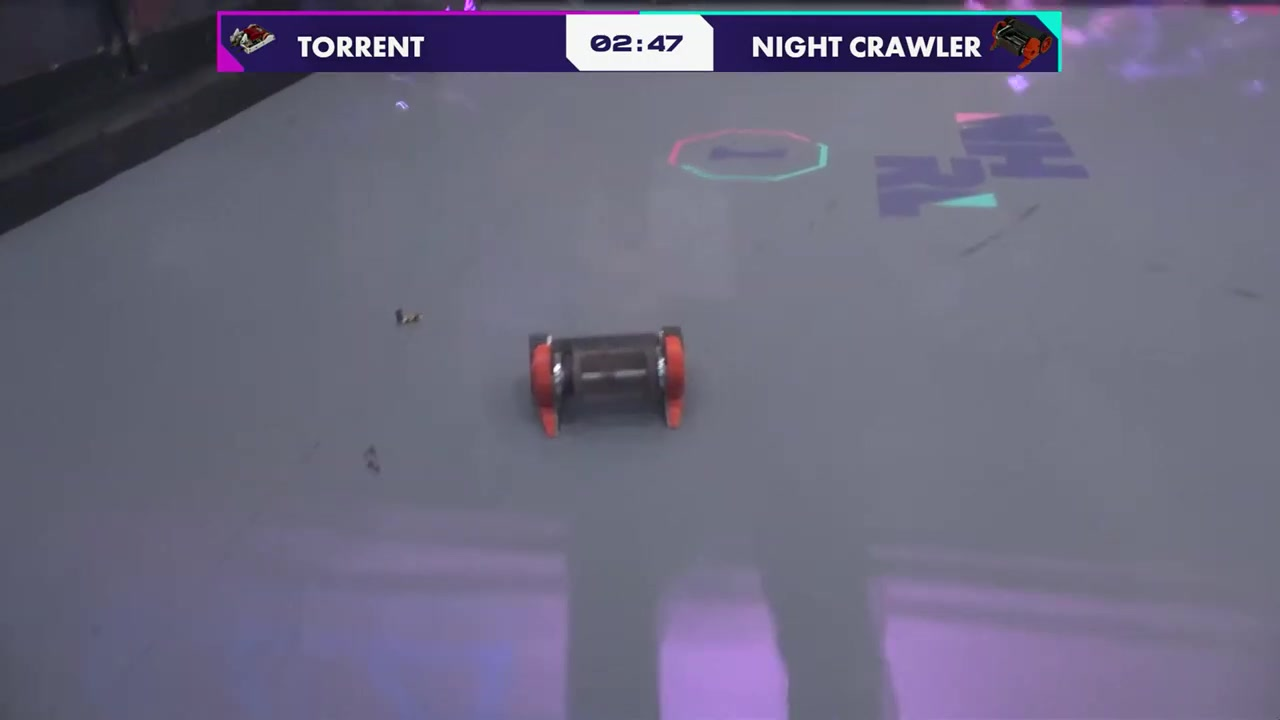combatbot: (526, 327, 692, 441)
